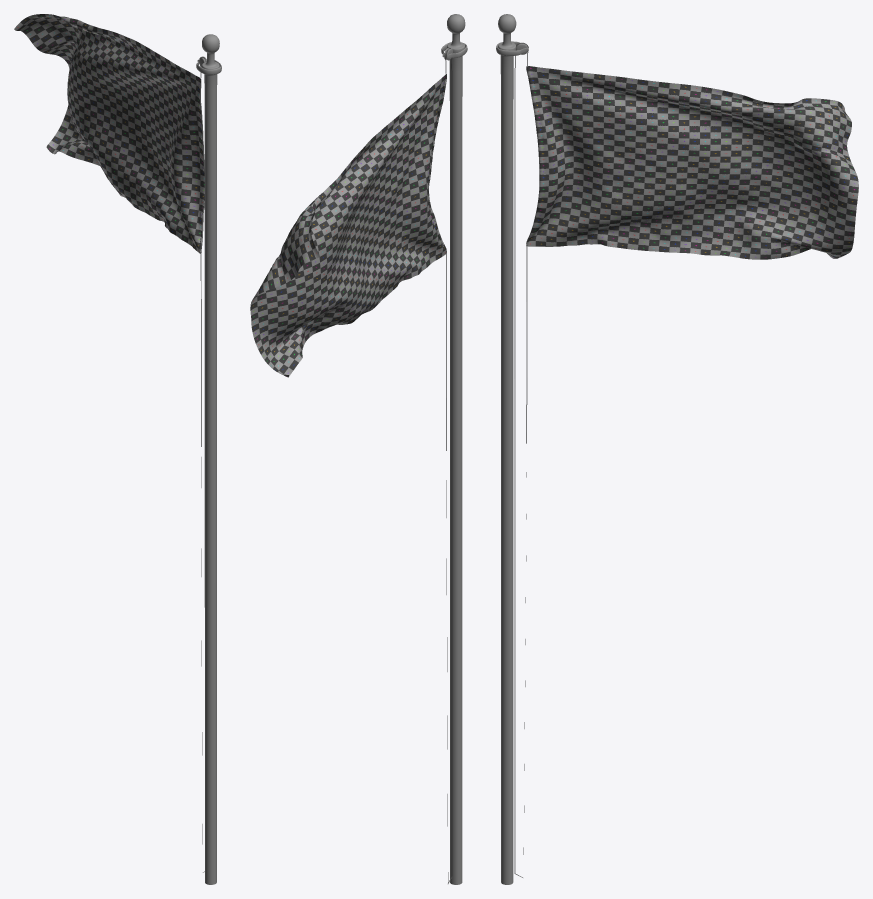
The picture shows the model from 3 angles, left to right: view 1: azimuth 30°, elevation 25°; view 2: azimuth 150°, elevation 25°; view 3: azimuth 270°, elevation 25°; orthographic projection. The views are drawn at different scales.
Parts seen in each view (by area): view 1: Flaga.002_0; view 2: Flaga.002_0; view 3: Flaga.002_0.
Boxes of the visible parts, x1=… form: Flaga.002_0: x1=14, y1=14, x2=221, y2=884; Flaga.002_0: x1=250, y1=14, x2=467, y2=884; Flaga.002_0: x1=496, y1=14, x2=858, y2=884.
Size of the model in its own units: 1.1 by 14.34 by 5.43.
